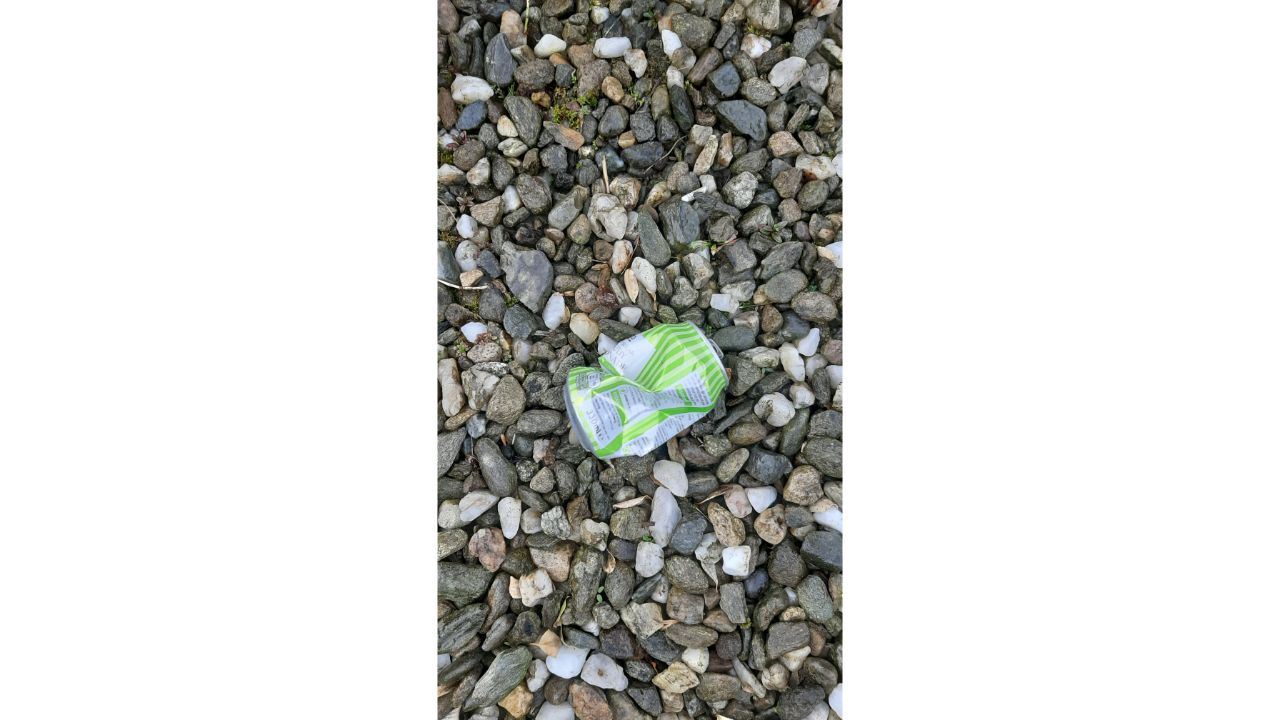Can: (562, 322, 730, 461)
